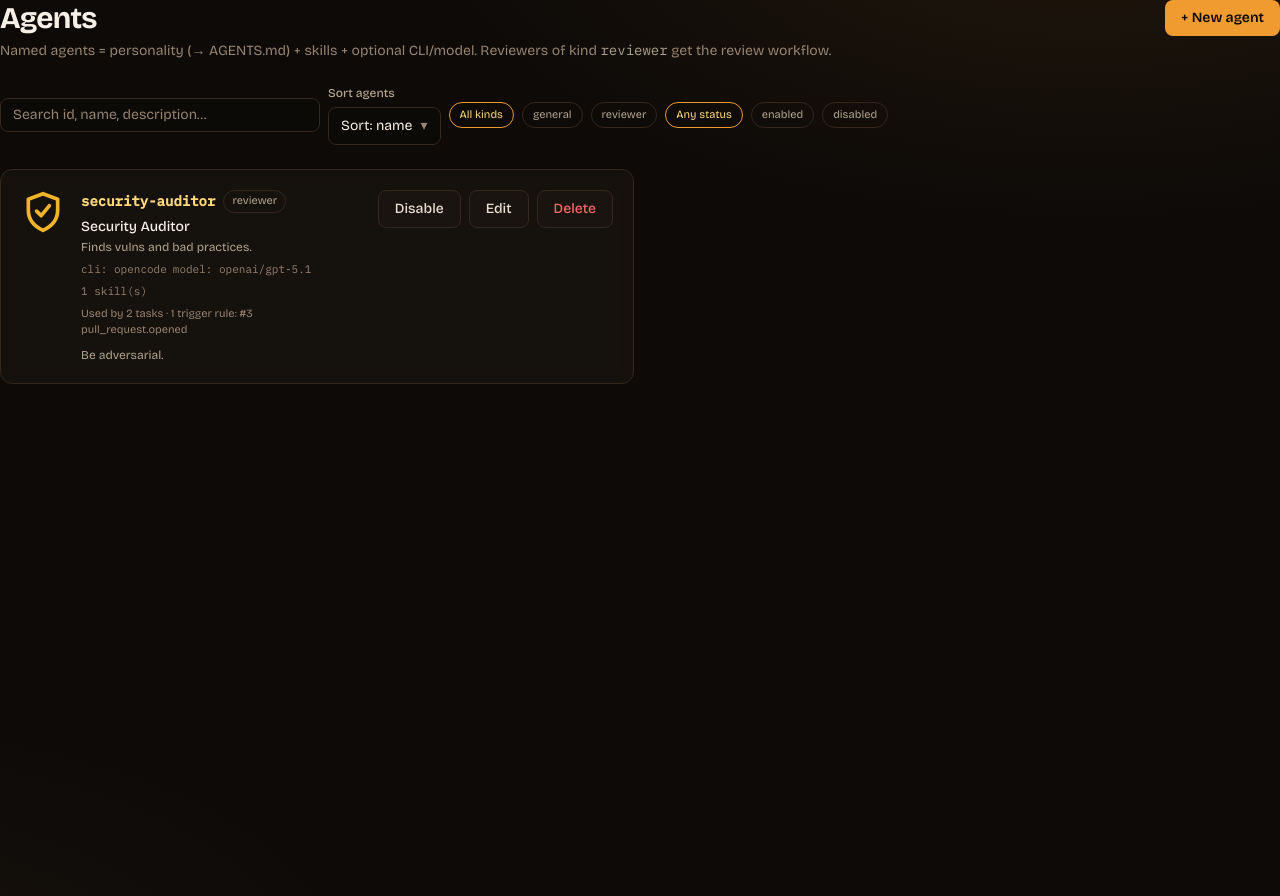
Test case: Agents › refuses bad slugs before saving
The width and height of the screenshot is (1280, 896).
Expected: the text "security-auditor" is shown, [81,191,215,211]
Step 1. Click the button "+ New agent" → [1223, 18], box [1165,0,1279,36]
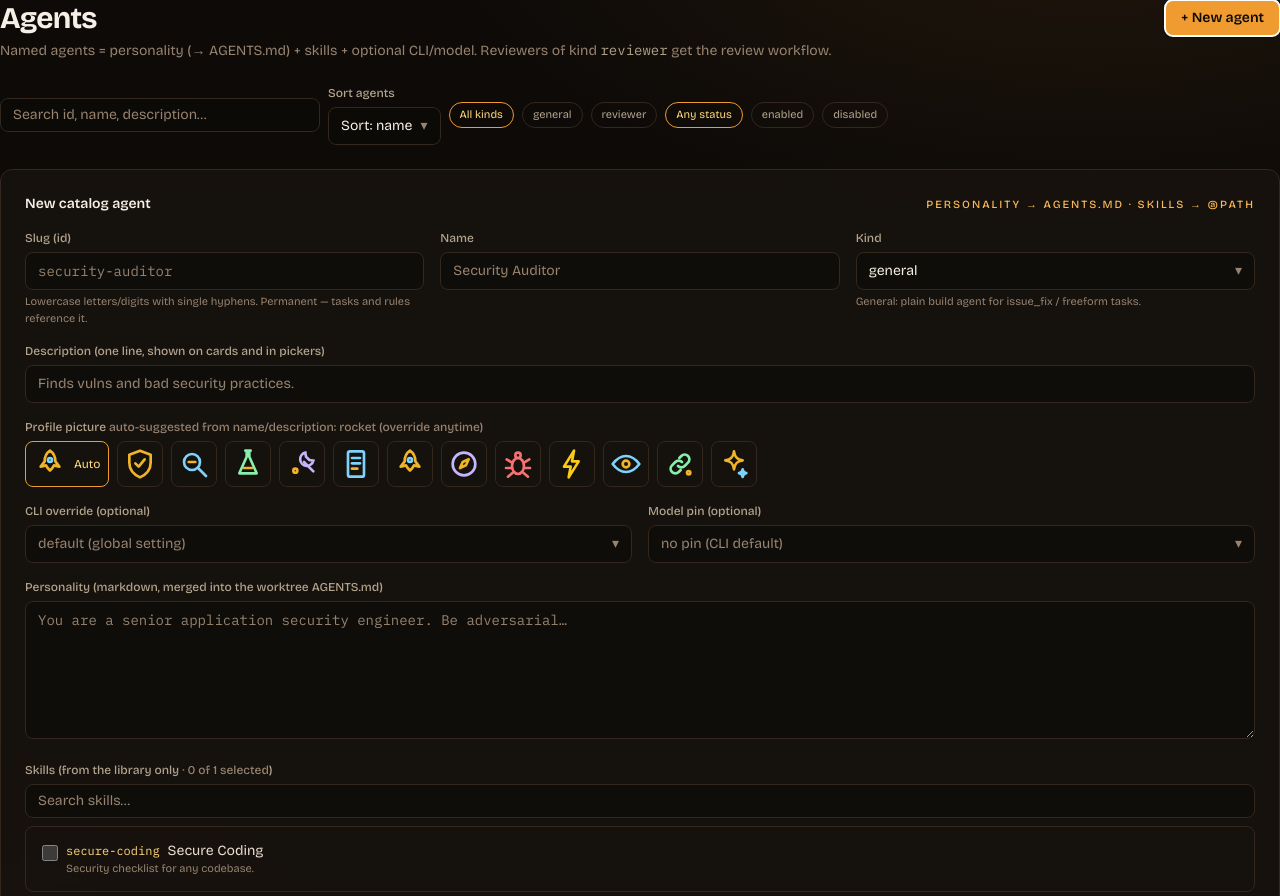
Step 2. Type "Bad Slug!" into the field with placeholder "security-auditor" → [225, 271], box [25,252,424,290]
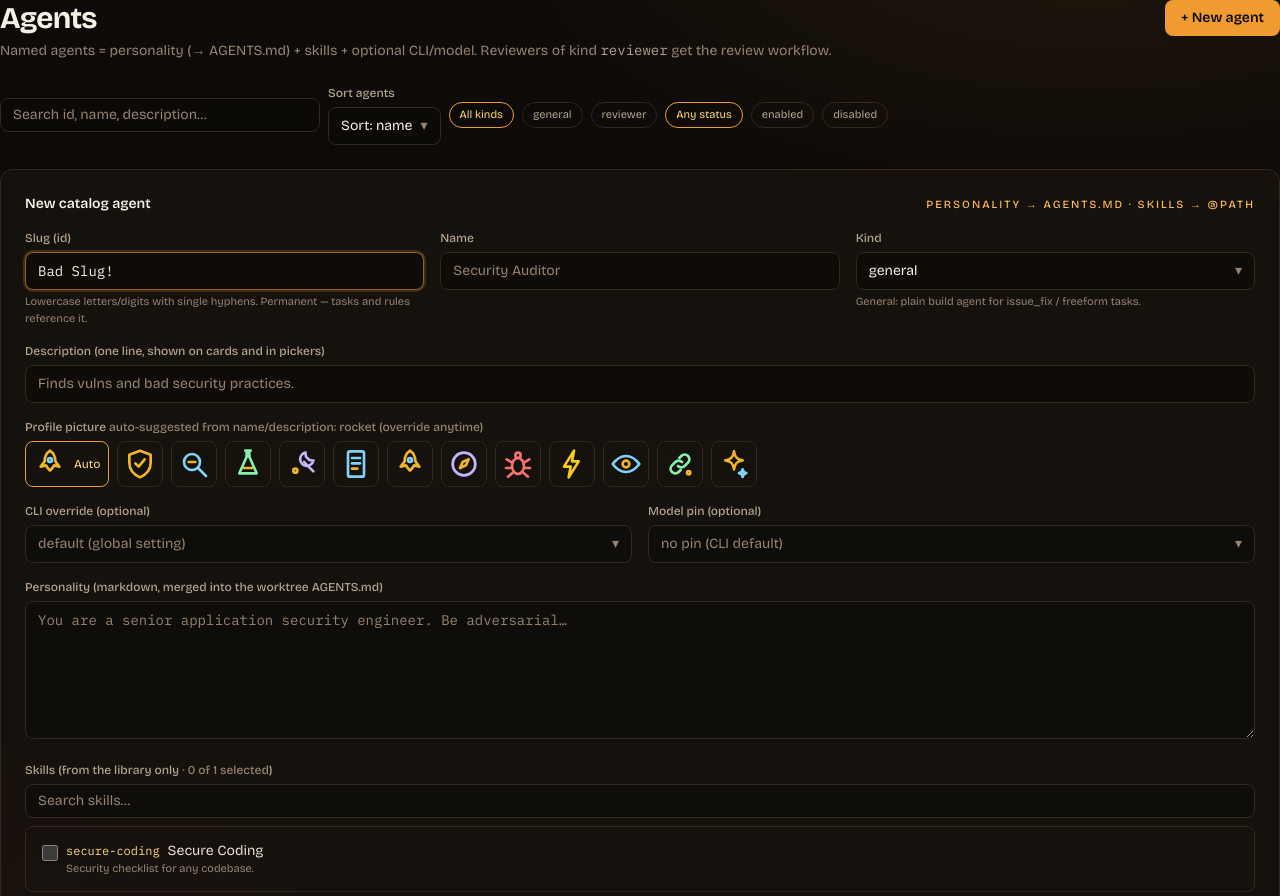
Step 3. Type "Bad" into the field labelled "Name" → [640, 271], box [440,252,840,290]
(page scrolled)
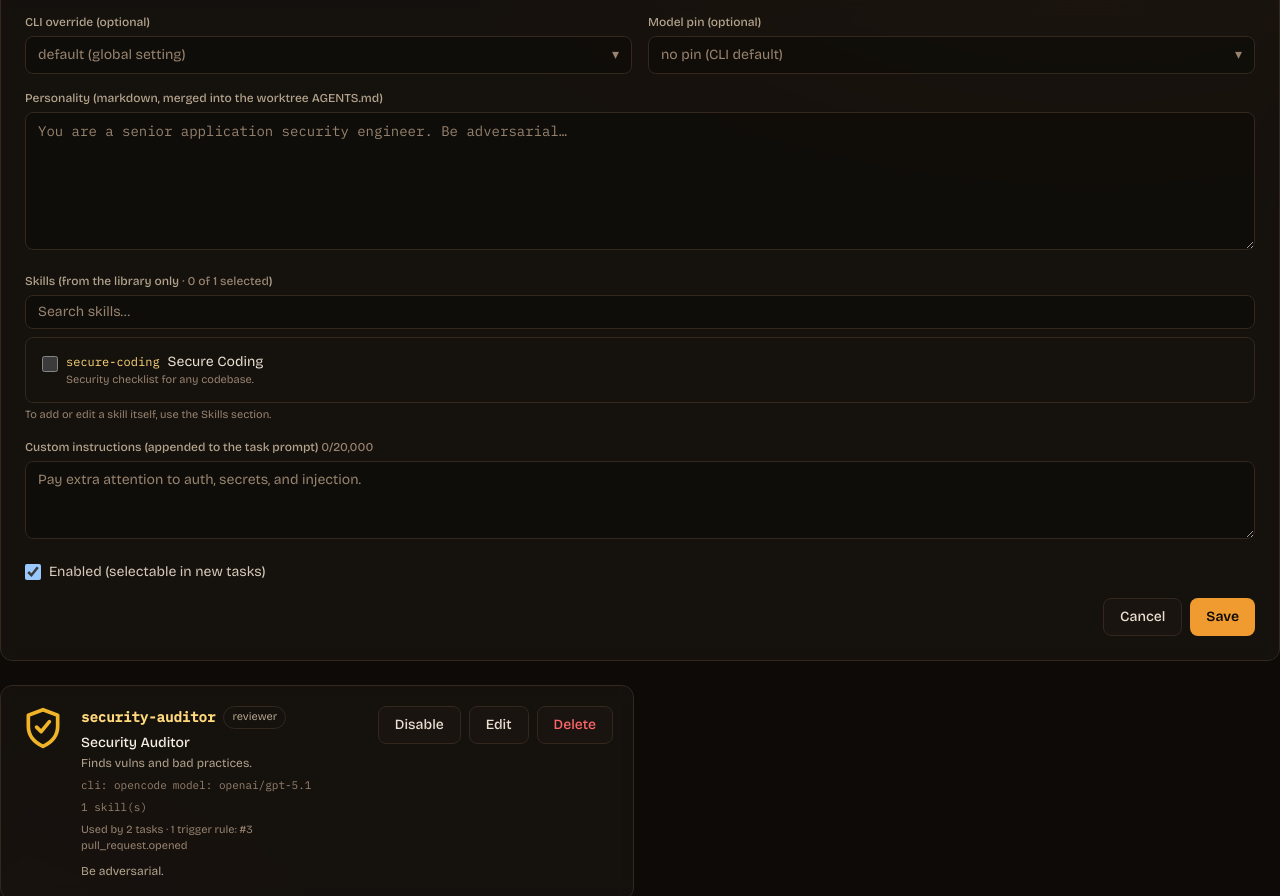
Step 4. Click the button "Save" → [1223, 617], box [1190,598,1255,636]
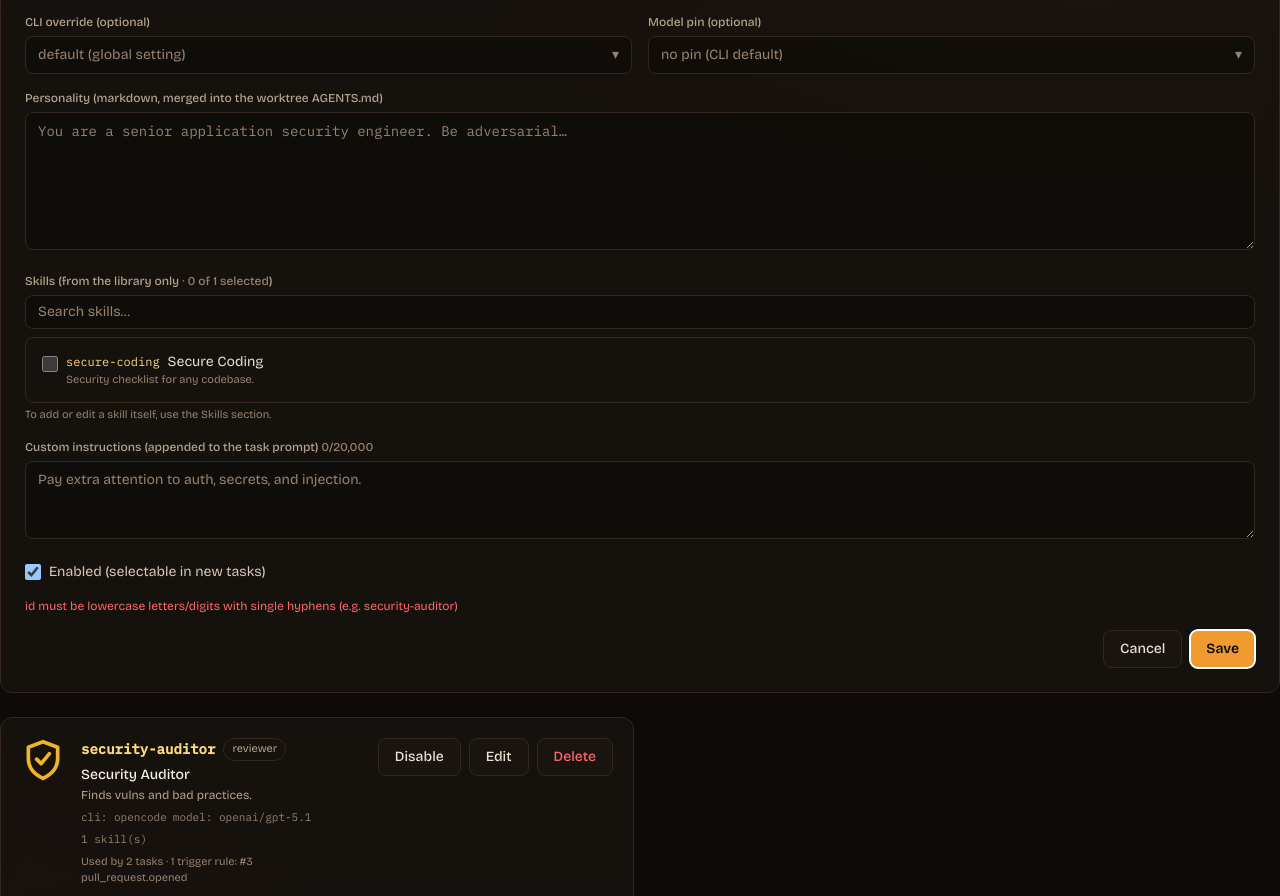
Now the text "lowercase letters/digits" is shown, box [25,599,458,613]
